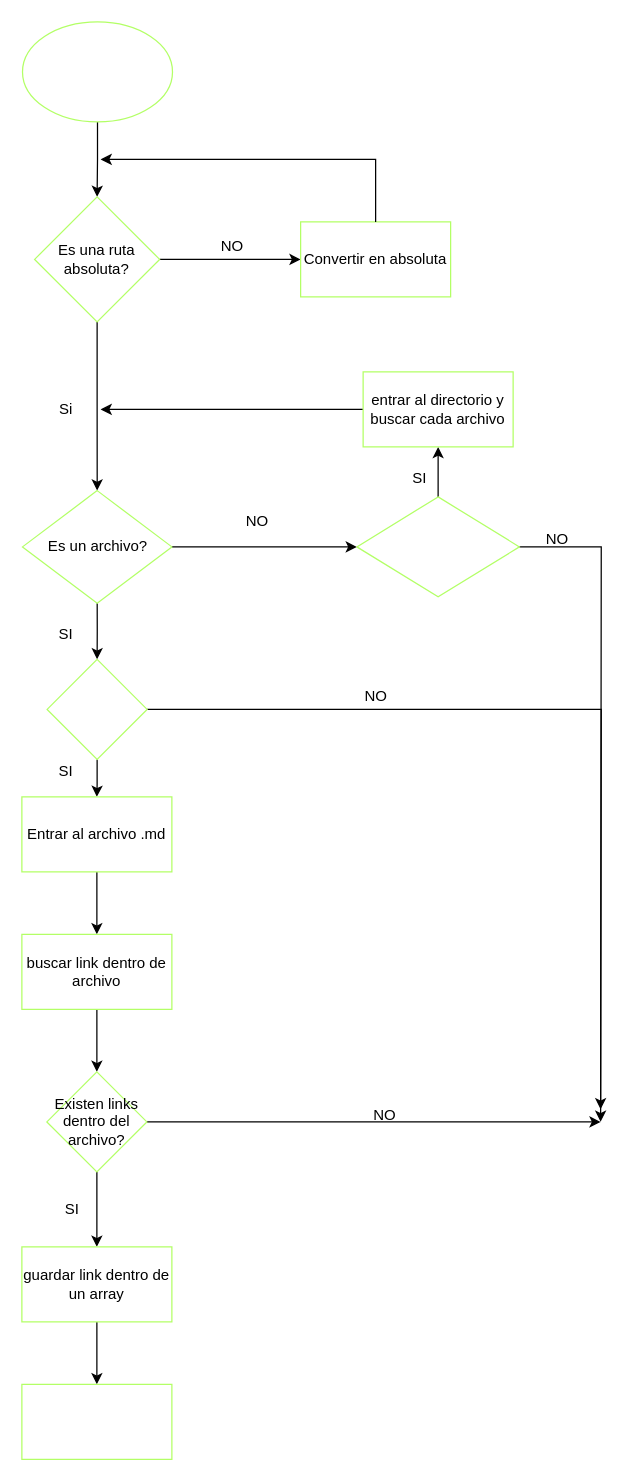
Some shapes in this 634 by 1481 pixel diagram are drawn without their labels. The centre of each missing label's shape, as x and y in pixels:
"Es un archivo .md?" belongs at pixel 96 708.
"Es un directorio?" belongs at pixel 437 546.
"INICIO API" belongs at pixel 96 71.
"validate true" belongs at pixel 96 1421.
